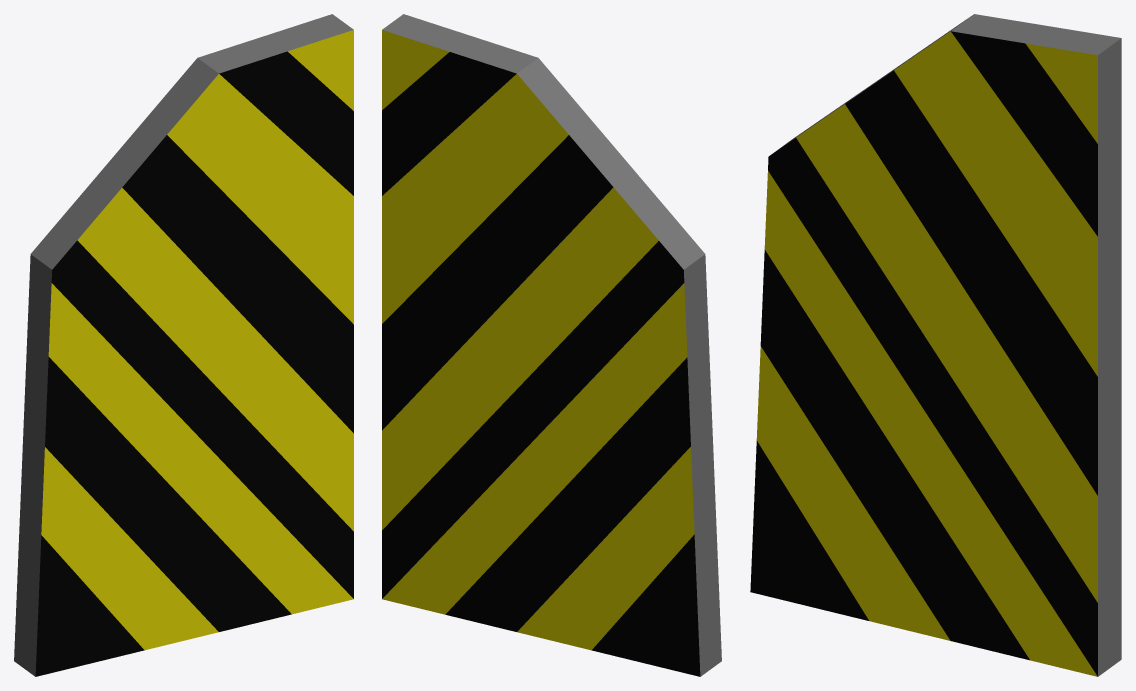
The model's file is escombro 2.fbx.
3 renders of one model, left to right at view 1: azimuth 30°, elevation 25°; view 2: azimuth 150°, elevation 25°; view 3: azimuth 330°, elevation 25°, orthographic. The views are drawn at different scales.
Visible parts, largest first — view 1: Cube; view 2: Cube; view 3: Cube.
Boxes of the visible parts, x1,y1,x2,y2 form: Cube: (14, 14, 353, 676); Cube: (382, 14, 721, 676); Cube: (750, 14, 1121, 676).
Bounding box in the file's own units: 117 × 200 × 13.74.
